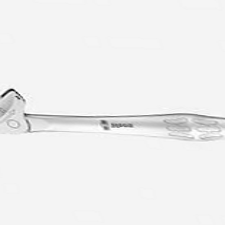Wrench: (2, 80, 225, 153)
